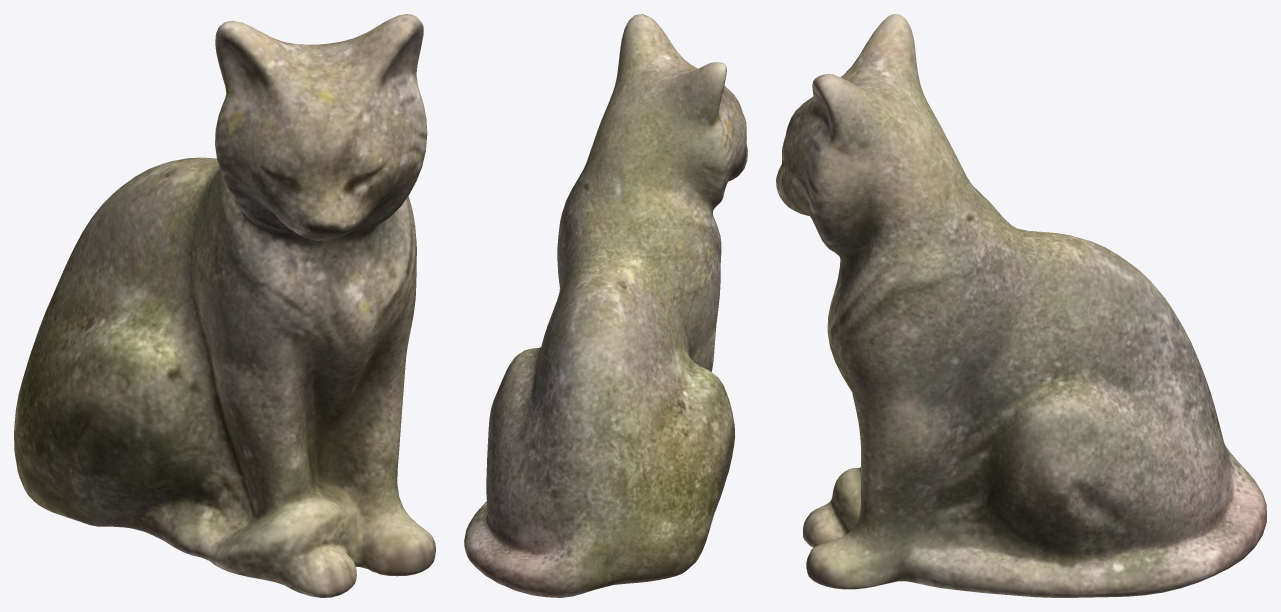
Rendered from concrete_cat_statue.08072630.glb.
3 renders of one model, left to right at view 1: azimuth 30°, elevation 25°; view 2: azimuth 150°, elevation 25°; view 3: azimuth 270°, elevation 25°, orthographic. The views are drawn at different scales.
Visible parts, largest first — view 1: concrete_cat_statue; view 2: concrete_cat_statue; view 3: concrete_cat_statue.
Boxes of the visible parts, left/top/right/bottom form: concrete_cat_statue: left=14, top=14, right=435, bottom=597; concrete_cat_statue: left=464, top=14, right=747, bottom=597; concrete_cat_statue: left=776, top=14, right=1266, bottom=597.
Size of the model in its own units: 0.4405 by 0.815 by 0.72.
Materials: 1 (1 with a texture image).
